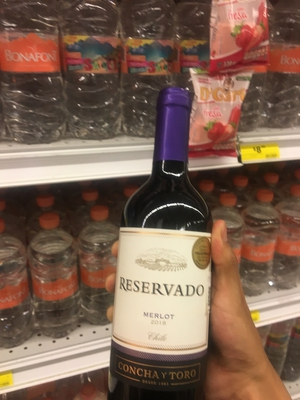reservado merlot: (98, 74, 227, 400)
